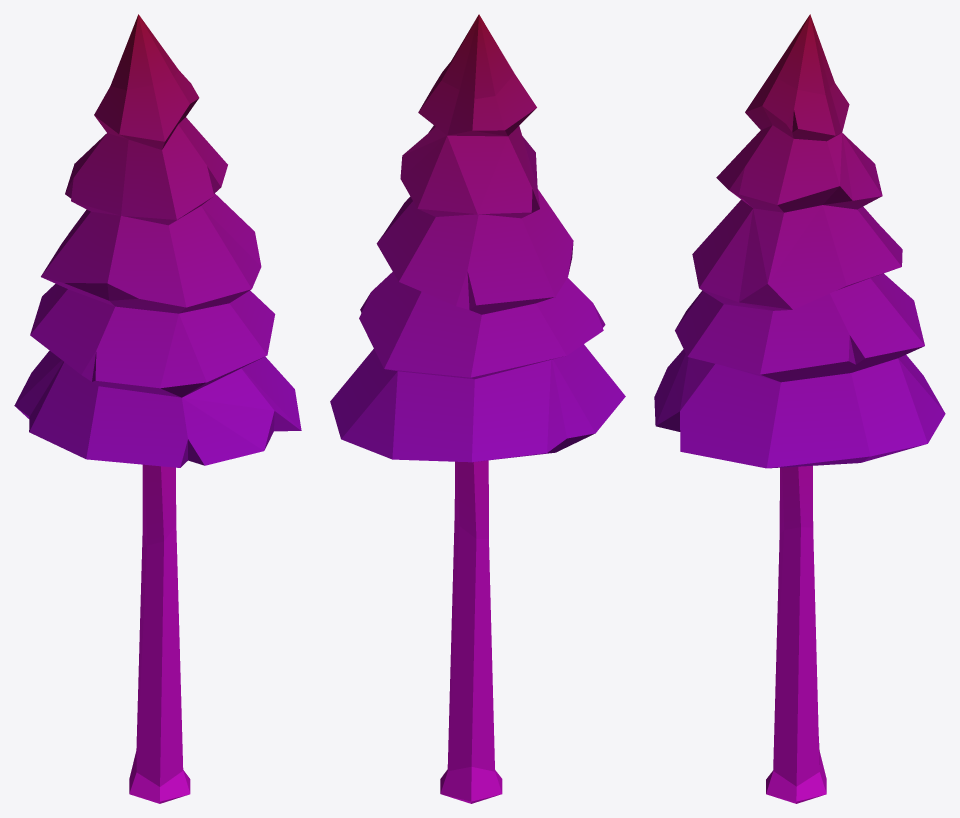
Rendered from SM_Tree_PolyPine_02.gltf.
The picture shows the model from 3 angles, left to right: view 1: azimuth 30°, elevation 25°; view 2: azimuth 150°, elevation 25°; view 3: azimuth 270°, elevation 25°; orthographic projection. The views are drawn at different scales.
Visible parts, largest first — view 1: SM_Tree_PolyPine_02; view 2: SM_Tree_PolyPine_02; view 3: SM_Tree_PolyPine_02.
Part boxes in pixels (x1,y1,x2,y2): SM_Tree_PolyPine_02: (14, 14, 301, 803); SM_Tree_PolyPine_02: (330, 14, 625, 803); SM_Tree_PolyPine_02: (654, 14, 945, 803).
Size of the model in its own units: 1.48 by 4.51 by 1.52.
